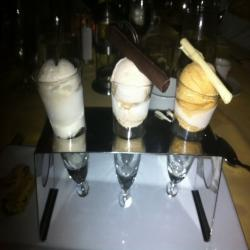icecream: (30, 53, 95, 143), (104, 56, 151, 144), (173, 63, 221, 137)
